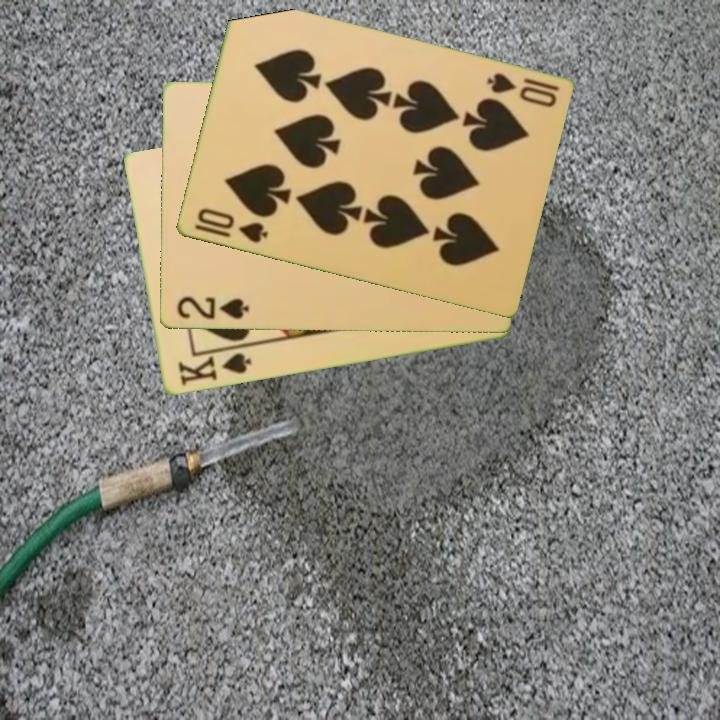10s: (190, 204, 271, 246), (482, 69, 562, 111)
2s: (173, 294, 251, 323)
Ks: (174, 344, 254, 390)
